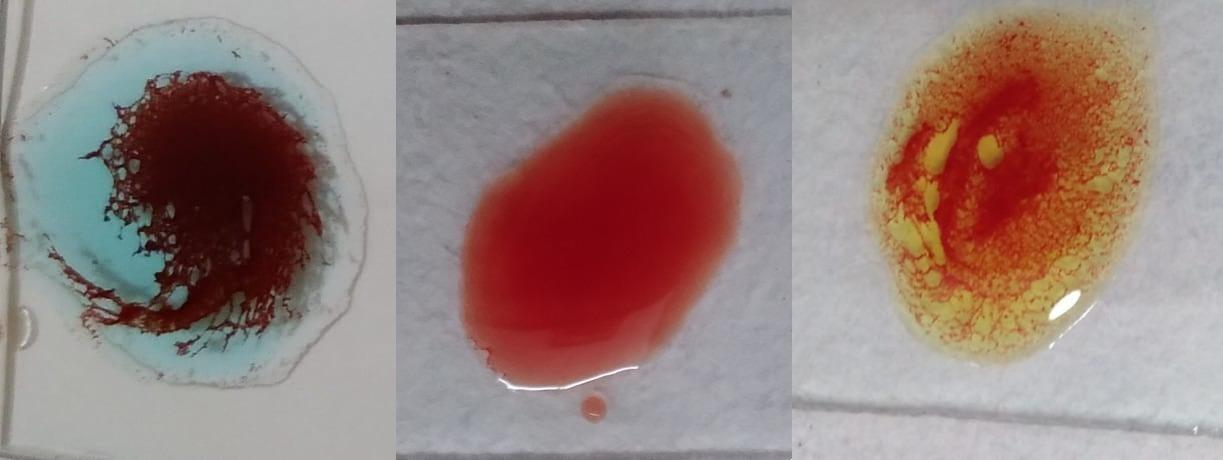A: (18, 12, 363, 396)
B: (874, 6, 1141, 368)
